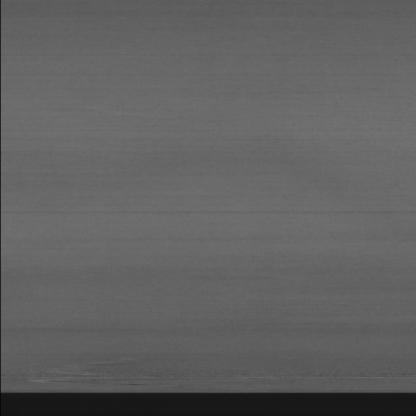silk_spot: (24, 351, 150, 389)
